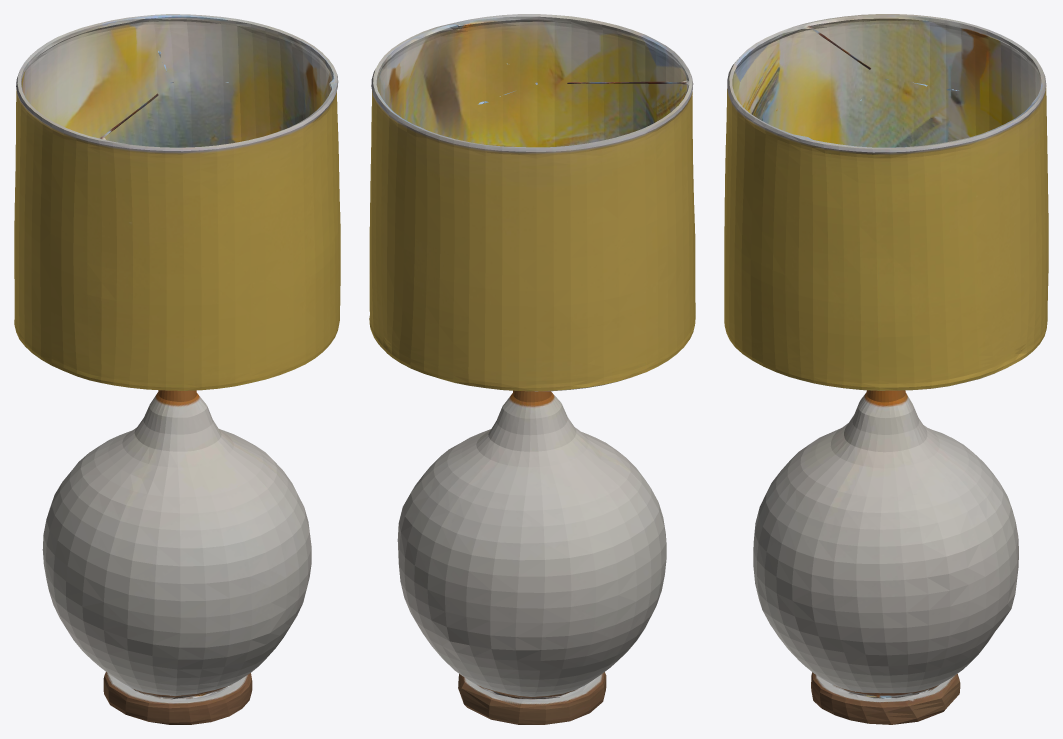
The model's file is lamp2.glb.
3 views of the same model, side by side, from view 1: azimuth 30°, elevation 25°; view 2: azimuth 150°, elevation 25°; view 3: azimuth 270°, elevation 25° (orthographic).
Visible parts, largest first — view 1: tripo_node_e50ea67c-025a-4b5a-949e-601d014f1dd2; view 2: tripo_node_e50ea67c-025a-4b5a-949e-601d014f1dd2; view 3: tripo_node_e50ea67c-025a-4b5a-949e-601d014f1dd2.
Boxes of the visible parts, x1=… form: tripo_node_e50ea67c-025a-4b5a-949e-601d014f1dd2: x1=14, y1=14, x2=340, y2=724; tripo_node_e50ea67c-025a-4b5a-949e-601d014f1dd2: x1=369, y1=14, x2=695, y2=724; tripo_node_e50ea67c-025a-4b5a-949e-601d014f1dd2: x1=724, y1=14, x2=1048, y2=724.
Bounding box in the file's own units: 0.4788 × 0.9996 × 0.4789.
Materials: 1 (1 with a texture image).
